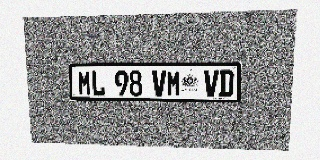8: (129, 70, 143, 96)
9: (115, 70, 129, 96)
D: (219, 70, 234, 97)
L: (91, 70, 105, 96)
M: (167, 70, 181, 96), (78, 70, 91, 96)
V: (204, 70, 219, 97), (152, 70, 166, 96)
